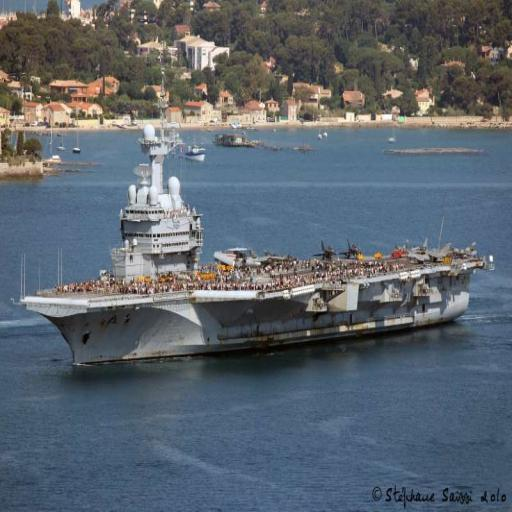Portanaves: (20, 65, 498, 375)
